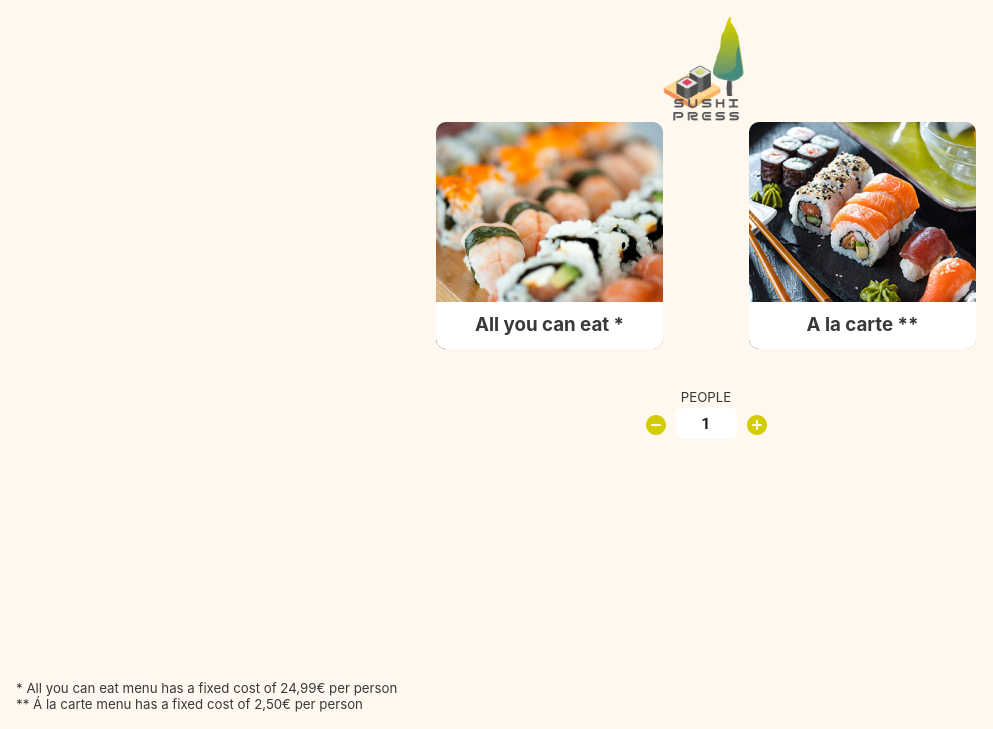
it: can change people › remove people
Click the button named "add": [757, 425] box [737,405,777,445]
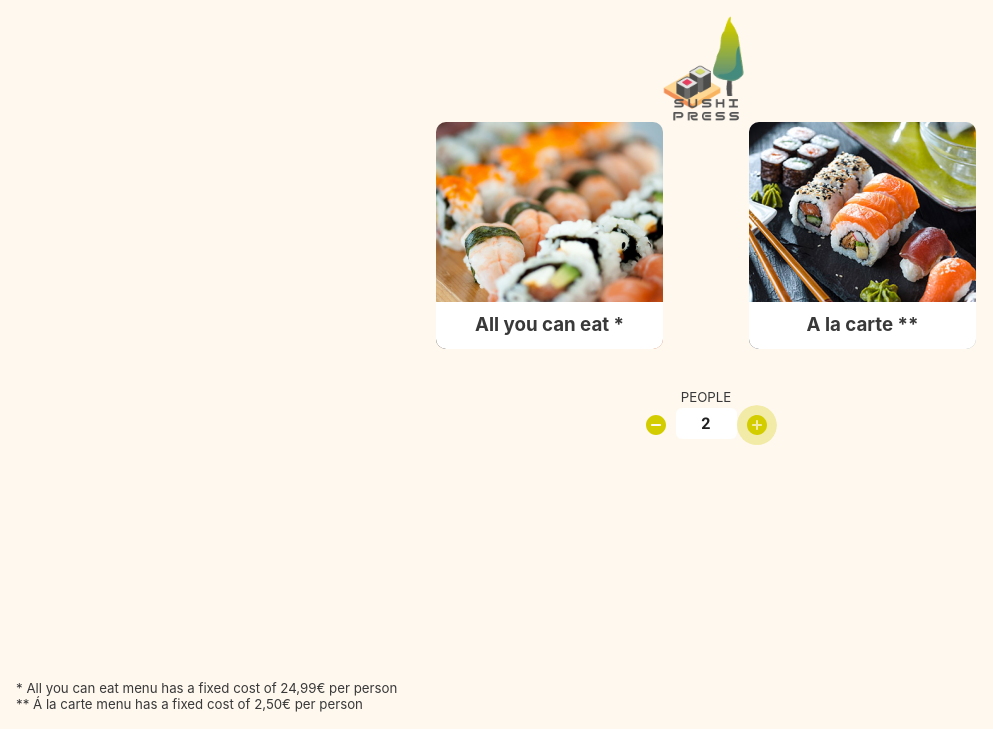
Click the button named "add": [757, 425] box [737,405,777,445]
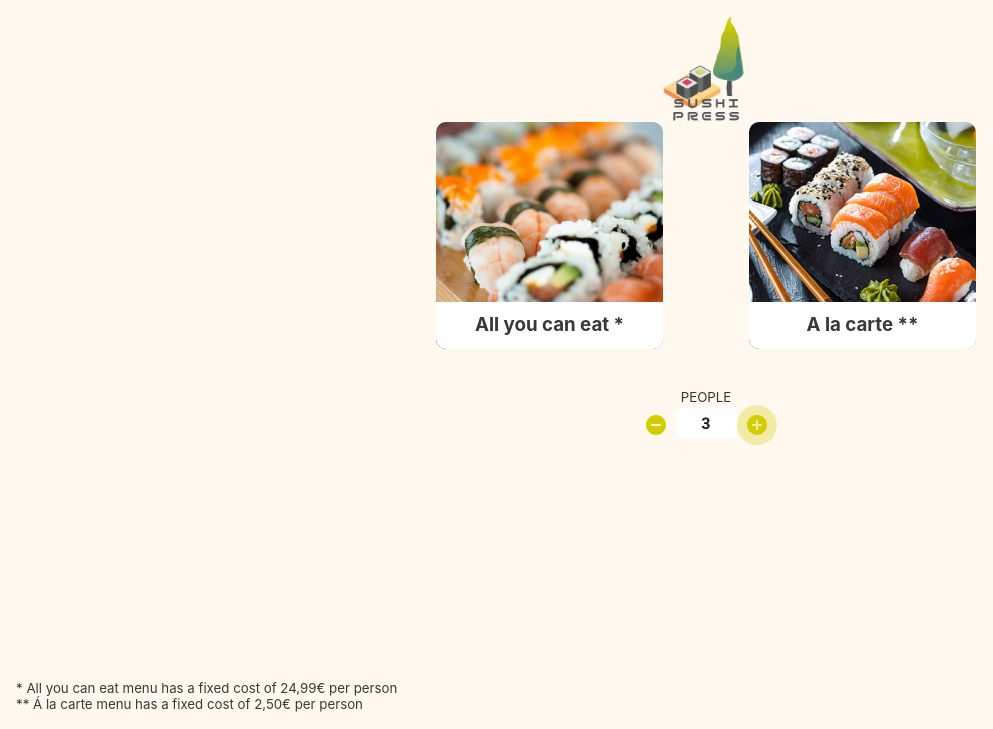
Click the button named "remove": [656, 425] box [636,405,676,445]
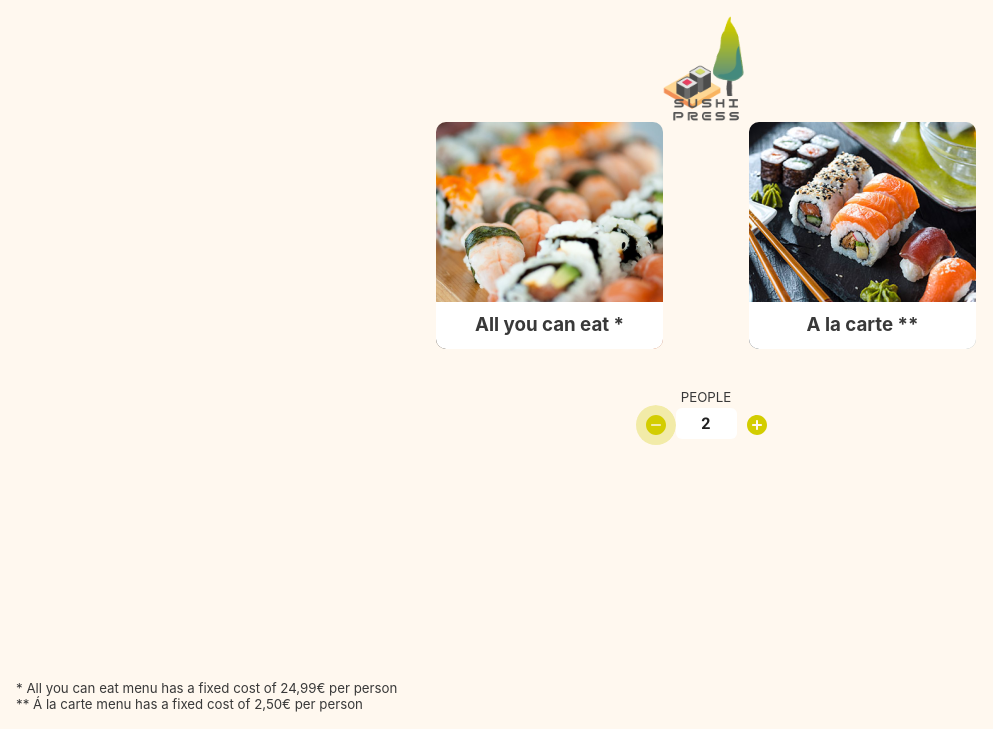
Check: the field with id "counter-input" holds "2", box [676,408,737,439]
